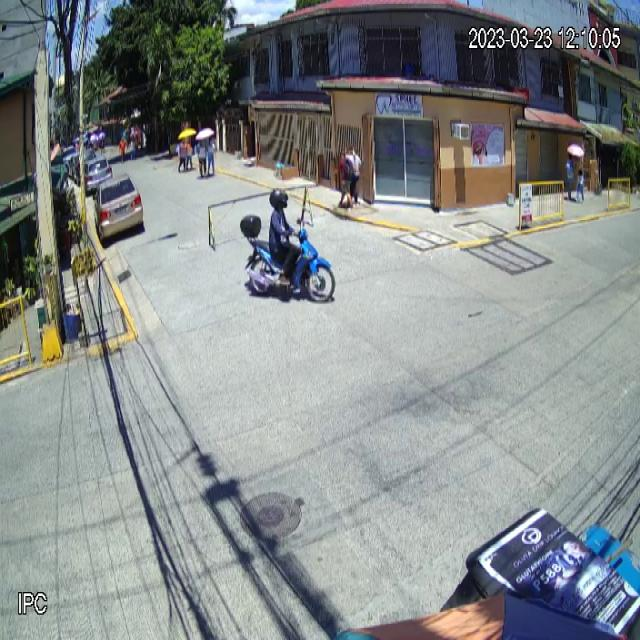Car: (92, 173, 144, 242)
Motorcycle: (239, 214, 336, 304)
